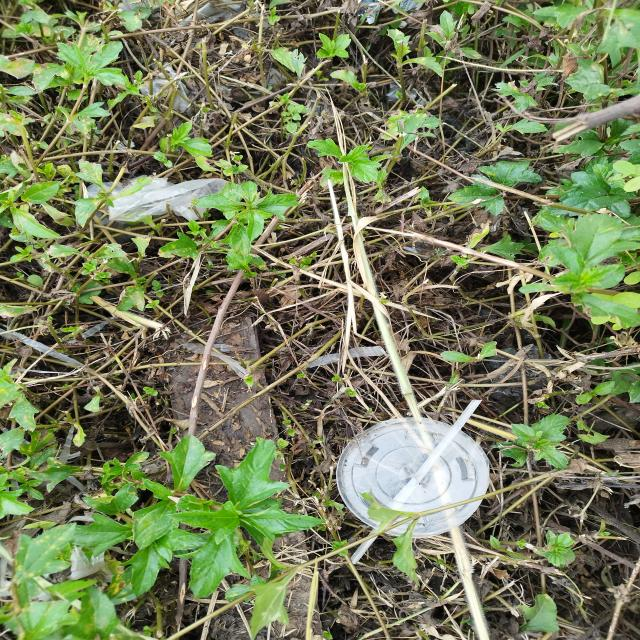bag: (85, 177, 244, 222)
drinking straw: (350, 399, 482, 564)
lid: (336, 418, 489, 538)
